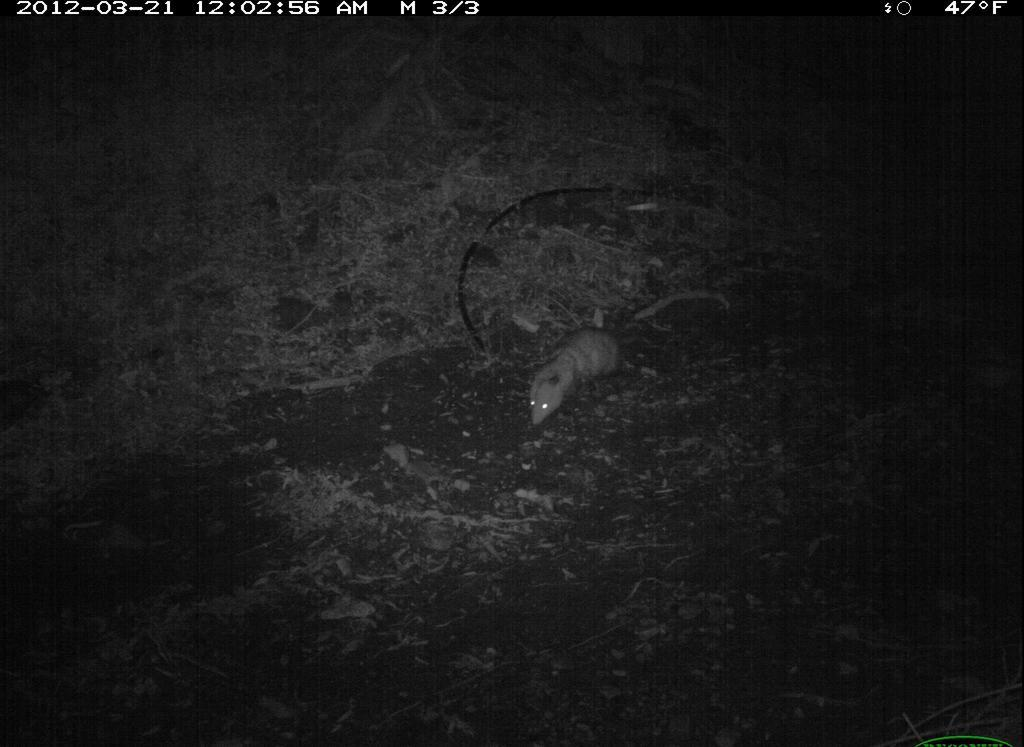opossum: (525, 322, 662, 431)
